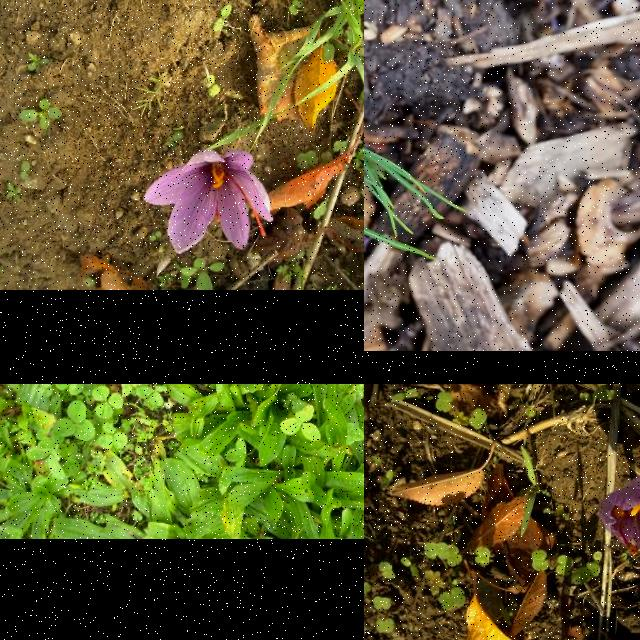flower: (143, 149, 274, 255), (600, 474, 640, 561)
